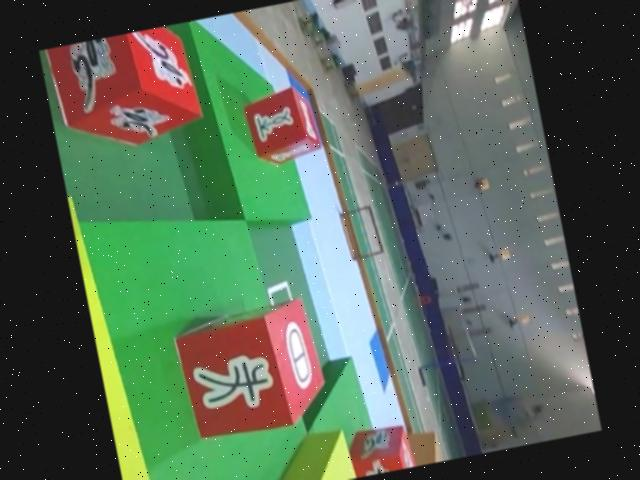R1: (46, 22, 209, 158), (342, 416, 422, 479)
R2 Fake: (166, 292, 336, 445)
R2 Real: (239, 82, 327, 168)
